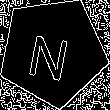N_N: (28, 23, 77, 80)
